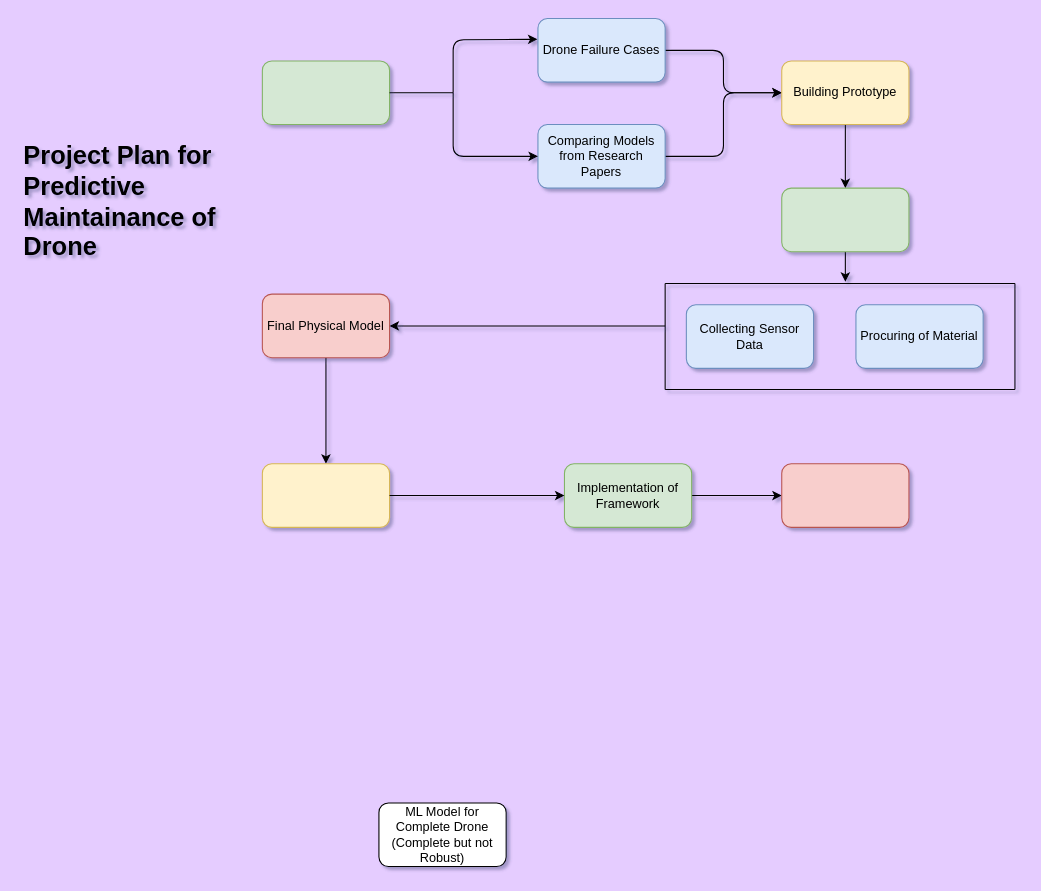
This 1041x891 diagram has some shape labels left out. The centre of each missing label's shape, as x and y in pixels:
"Conclusion" belongs at (x=845, y=495).
"Evaluating ML Model Requirements" belongs at (x=845, y=219).
"Preliminary Research" belongs at (x=325, y=92).
"Training and Testing of ML Model" belongs at (x=325, y=495).
